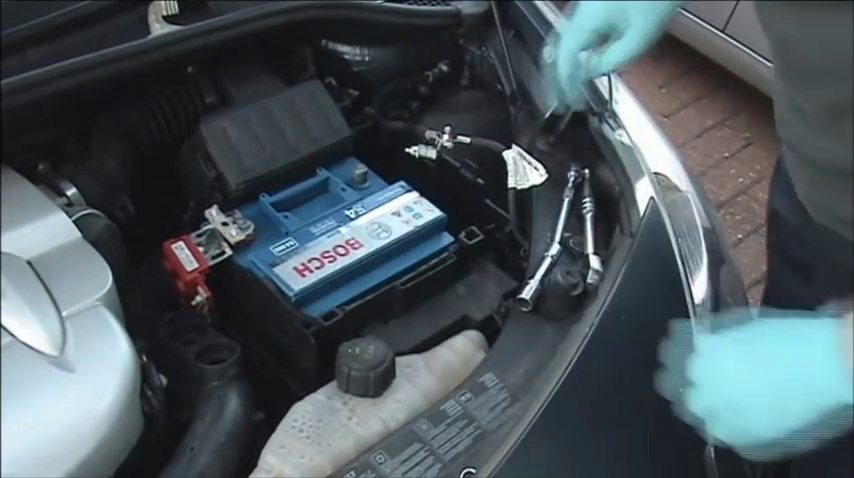battery: (190, 152, 461, 332)
neg_disconnected: (333, 142, 389, 193)
pos_connected: (161, 192, 261, 285)
